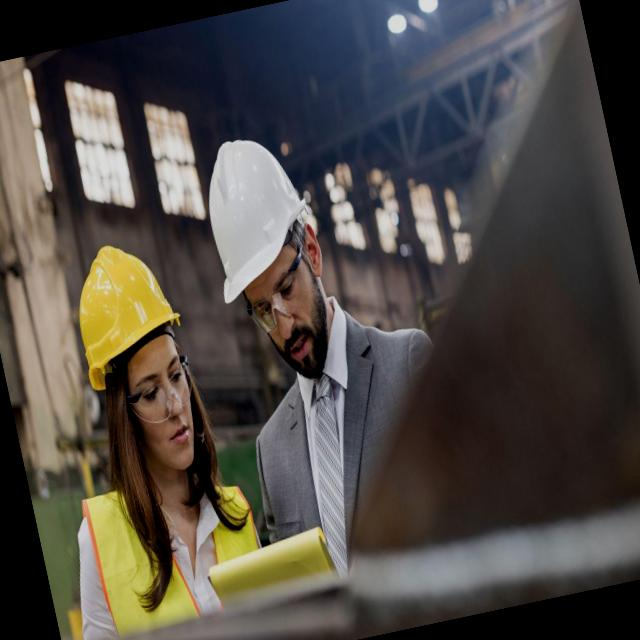helmet: (182, 120, 334, 310), (50, 222, 200, 398)
no-vest: (232, 316, 463, 594)
vest: (56, 462, 269, 640)
